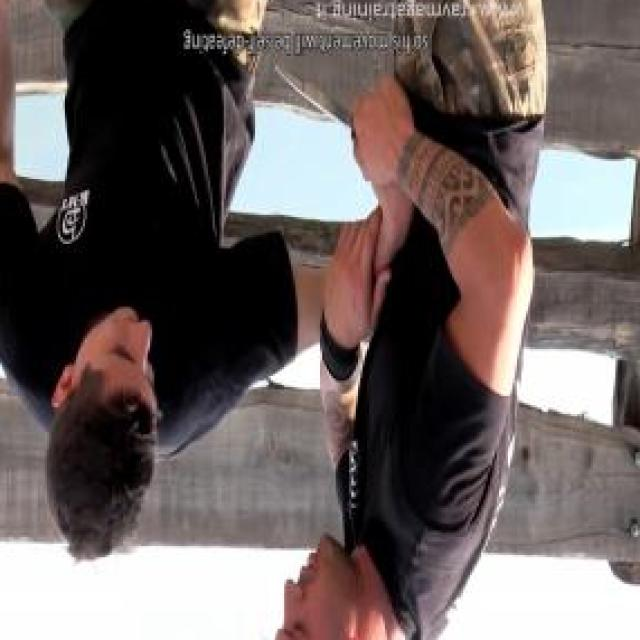knife: (269, 61, 387, 190)
